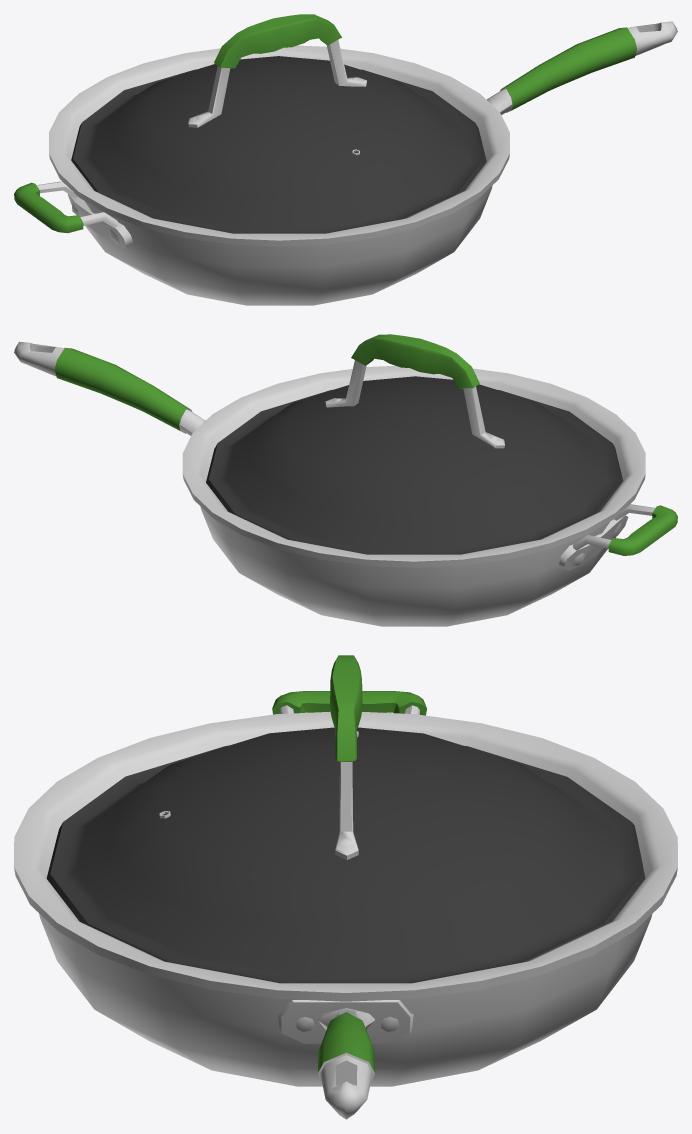
The model's file is CBERCC32D2.FBX.
The picture shows the model from 3 angles, top to bottom: view 1: azimuth 30°, elevation 25°; view 2: azimuth 150°, elevation 25°; view 3: azimuth 270°, elevation 25°; orthographic projection. The views are drawn at different scales.
Parts seen in each view (by area): view 1: CBERCC32D2; view 2: CBERCC32D2; view 3: CBERCC32D2.
Boxes of the visible parts, left/top/right/bottom form: CBERCC32D2: left=14, top=14, right=677, bottom=305; CBERCC32D2: left=14, top=334, right=677, bottom=626; CBERCC32D2: left=14, top=655, right=677, bottom=1119.
Bounding box in the file's own units: 51.13 × 31.82 × 17.83.
